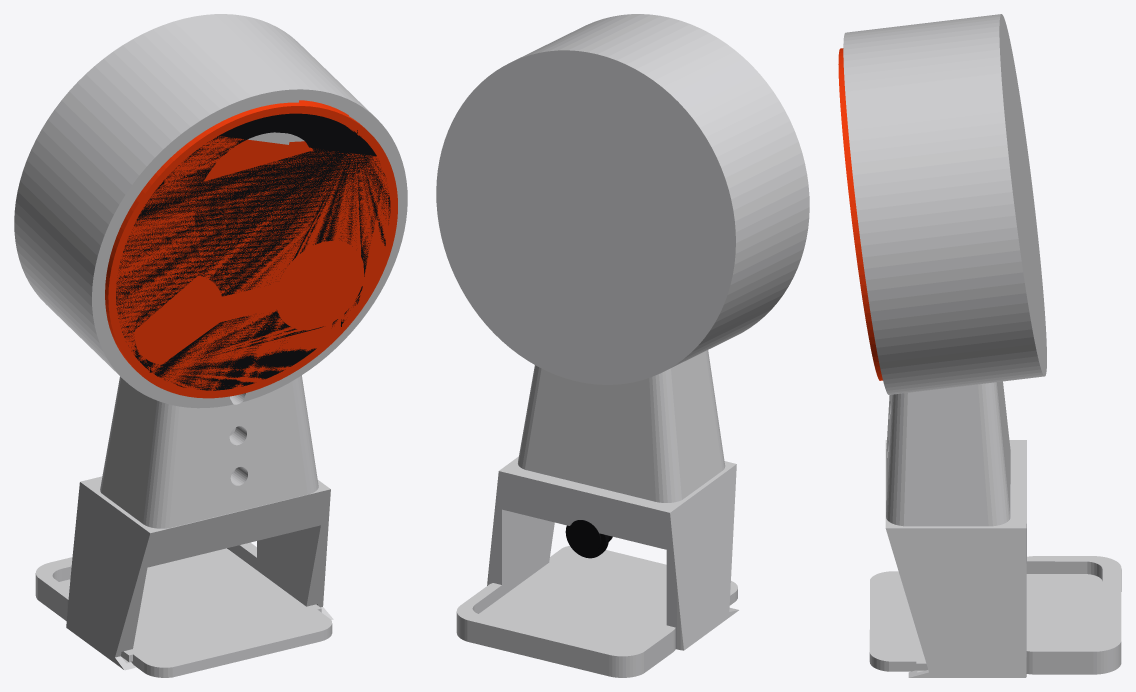
File: StudySense_V8_Master_Complete_Assembly.obj
The picture shows the model from 3 angles, left to right: view 1: azimuth 30°, elevation 25°; view 2: azimuth 150°, elevation 25°; view 3: azimuth 270°, elevation 25°; orthographic projection. The views are drawn at different scales.
Parts seen in each view (by area): view 1: 02_Neck_and_Head_Pod, 04_Accent_Ring_Orange, 03_Sensor_Faceplate_Black, 01_Base_Pedestal, 05_Base_Bottom_Cover; view 2: 02_Neck_and_Head_Pod, 01_Base_Pedestal, 05_Base_Bottom_Cover, 06_Button_Cap; view 3: 02_Neck_and_Head_Pod, 01_Base_Pedestal, 05_Base_Bottom_Cover, 04_Accent_Ring_Orange.
Part boxes in pixels (x1,y1,x2,y2): 02_Neck_and_Head_Pod: [14, 14, 407, 528]; 04_Accent_Ring_Orange: [105, 100, 397, 398]; 03_Sensor_Faceplate_Black: [116, 113, 390, 390]; 01_Base_Pedestal: [35, 476, 333, 670]; 05_Base_Bottom_Cover: [59, 548, 332, 677]; 02_Neck_and_Head_Pod: [436, 14, 809, 502]; 01_Base_Pedestal: [456, 456, 738, 677]; 05_Base_Bottom_Cover: [479, 545, 737, 648]; 06_Button_Cap: [565, 520, 612, 558]; 02_Neck_and_Head_Pod: [843, 14, 1046, 526]; 01_Base_Pedestal: [885, 440, 1121, 677]; 05_Base_Bottom_Cover: [869, 571, 1102, 671]; 04_Accent_Ring_Orange: [838, 48, 882, 380].
Bounding box in the file's own units: 58 × 104 × 44.96.
